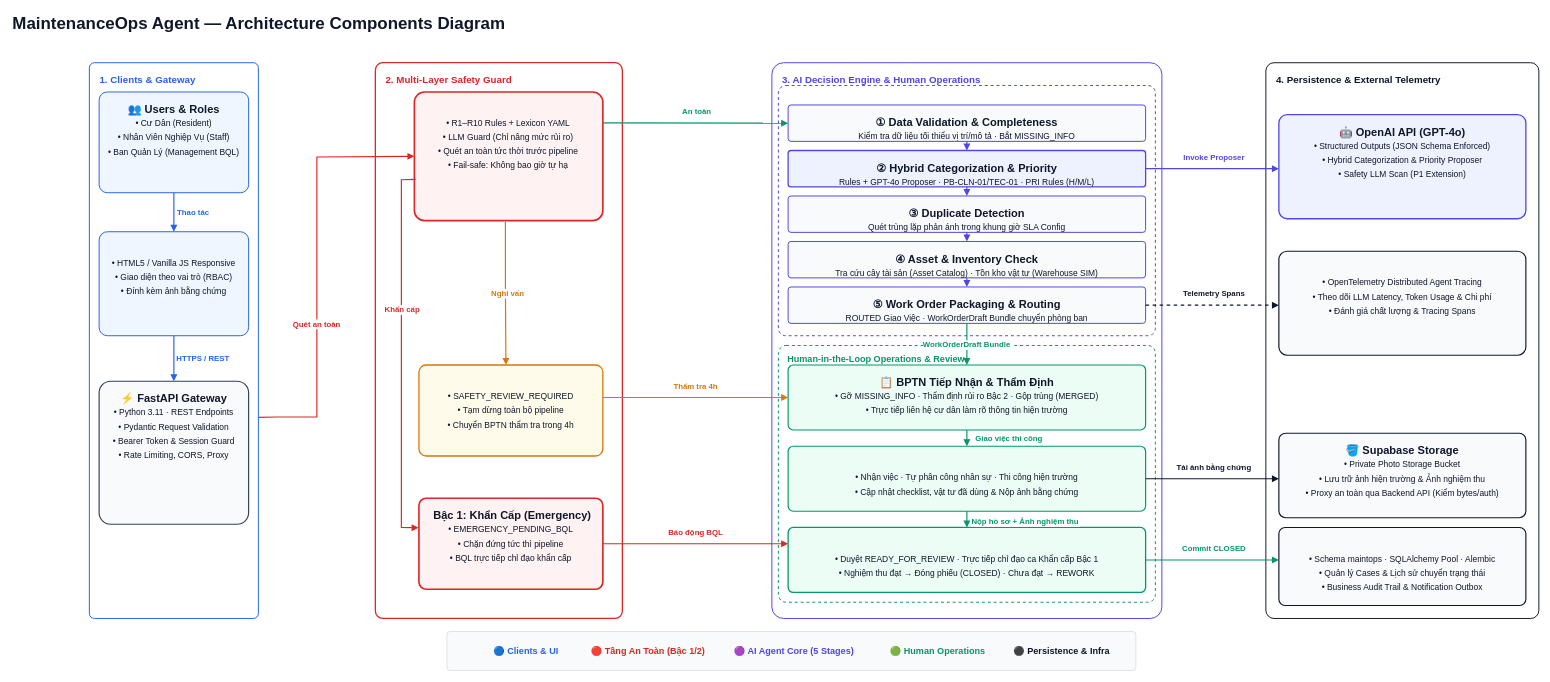
The diagram is 1550 pixels wide and 682 high, and some of its shapes have lost their labels. Each missing label, with the box of its shape:
AI Agent Decision Pipeline (LangGraph Core): (778, 85, 1156, 336)
Bậc 2: Nghi Ngờ (Warning): (418, 364, 603, 456)
Safety Interceptor: (413, 91, 603, 221)
✅ Ban Quản Lý (BQL) Nghiệm Thu: (787, 526, 1146, 593)
🐘 PostgreSQL (Supabase): (1278, 527, 1526, 606)
💻 Web App (/ui): (98, 231, 249, 336)
📊 Phoenix & LangSmith: (1278, 250, 1526, 355)
🛠️ Phòng Ban Xử Lý (PB-CLN-01 / PB-TEC-01): (787, 445, 1146, 511)
